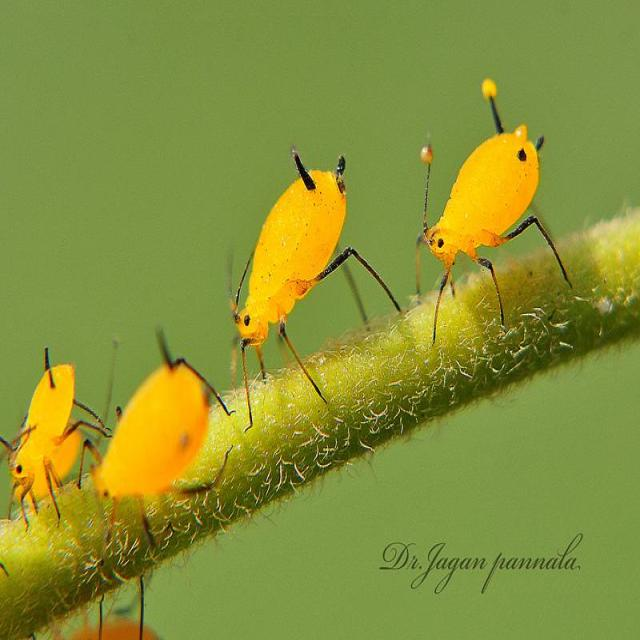Aphids: (184, 130, 412, 446), (422, 62, 588, 378), (94, 358, 225, 539), (5, 345, 113, 543)
